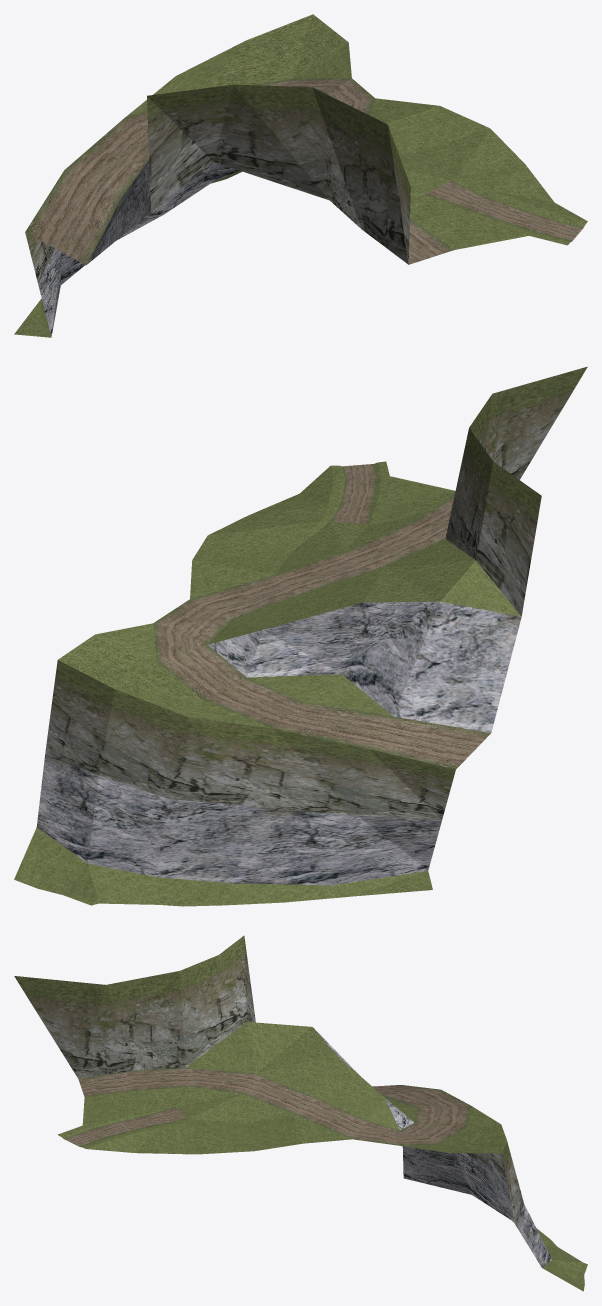
File: n_bit_11.obj
The picture shows the model from 3 angles, top to bottom: view 1: azimuth 30°, elevation 25°; view 2: azimuth 150°, elevation 25°; view 3: azimuth 270°, elevation 25°; orthographic projection. The views are drawn at different scales.
Visible parts, largest first — view 1: n_bit_11; view 2: n_bit_11; view 3: n_bit_11.
Boxes of the visible parts, bbox=[...] form: n_bit_11: bbox=[14, 14, 587, 337]; n_bit_11: bbox=[14, 366, 587, 906]; n_bit_11: bbox=[14, 935, 587, 1291].
Bounding box in the file's own units: 97.39 × 86.56 × 180.
5 materials, 5 textured.
